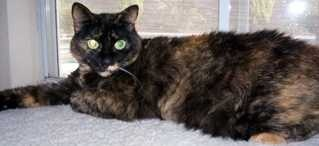Cat: (54, 2, 310, 139), (0, 2, 150, 120)
